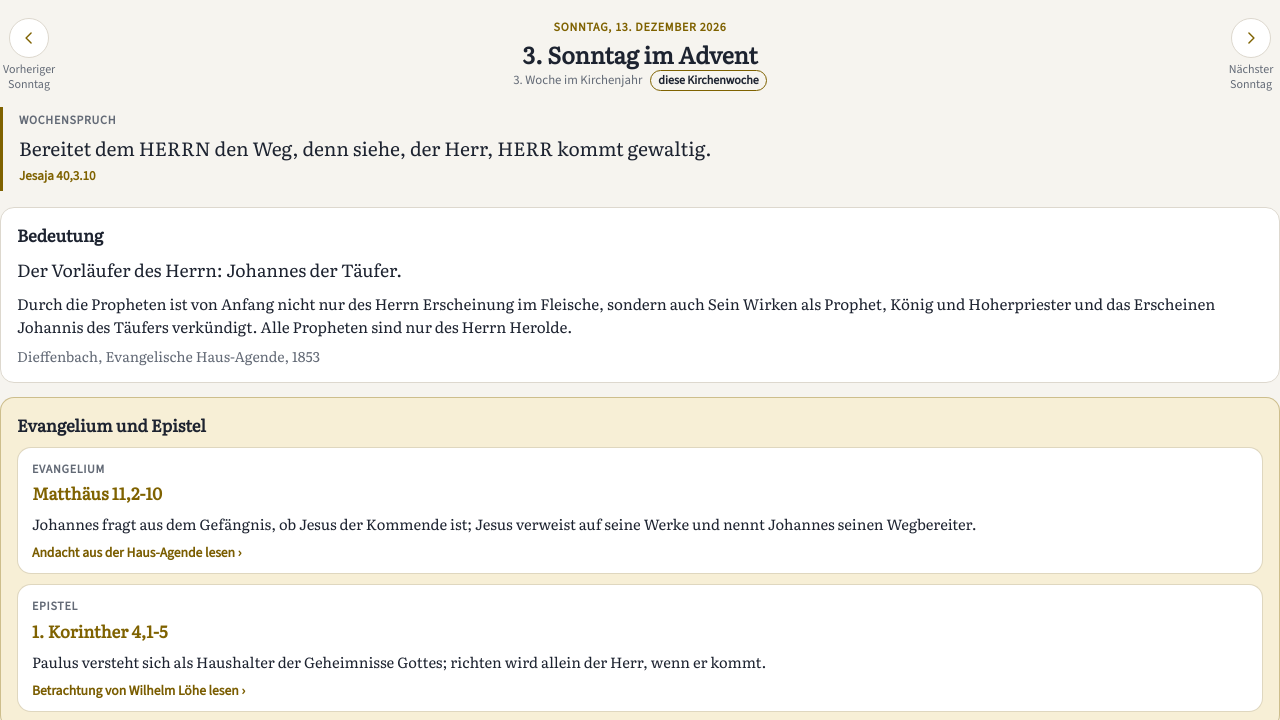
Scenario: Sunday: the Bible lessons of Advent after Dieffenbach (1.5) › show the hymn verses of the third Sunday line by line, and no Bible text beyond the reference
Check: the heading "3. Sonntag im Advent" is shown, box [522,41,758,68]
Click the button "Evangelium" at (640, 510), box [17,446,1263,574]
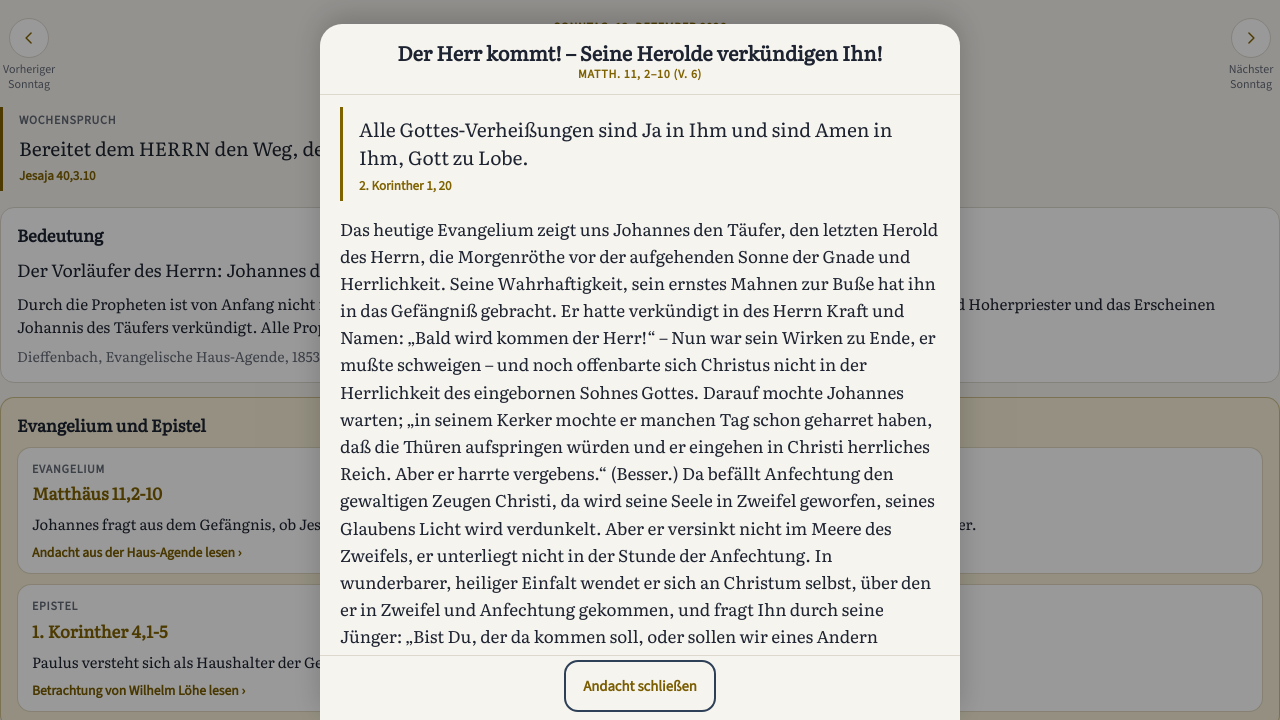
Check: the dialog "Der Herr kommt! – Seine Herolde verkündigen Ihn!" shows "Matth. 11, 2–10 (V. 6)", box [578,66,702,82]
